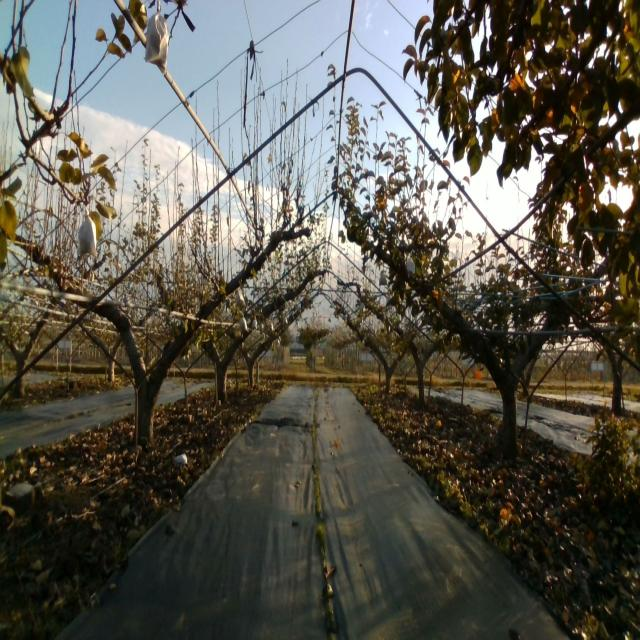pearbags: (143, 0, 170, 69), (76, 209, 98, 257)
